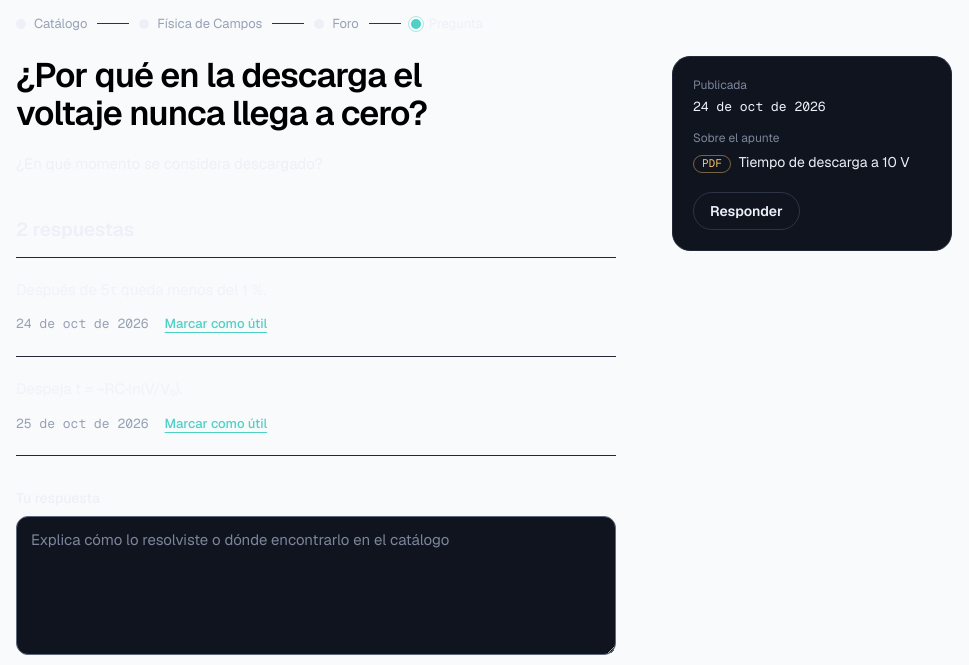
Scenario: QuestionPage › quien preguntó marca una respuesta como útil, la cambia y la quita, con el foco en cada paso
Expected: the heading "¿Por qué en la descarga el voltaje nunca llega a cero?" is shown, x1=16 y1=52 x2=427 y2=135
Click the button "Marcar como útil" below "Después de 5τ queda menos del 1 %.": (216,324) x1=165 y1=312 x2=267 y2=336
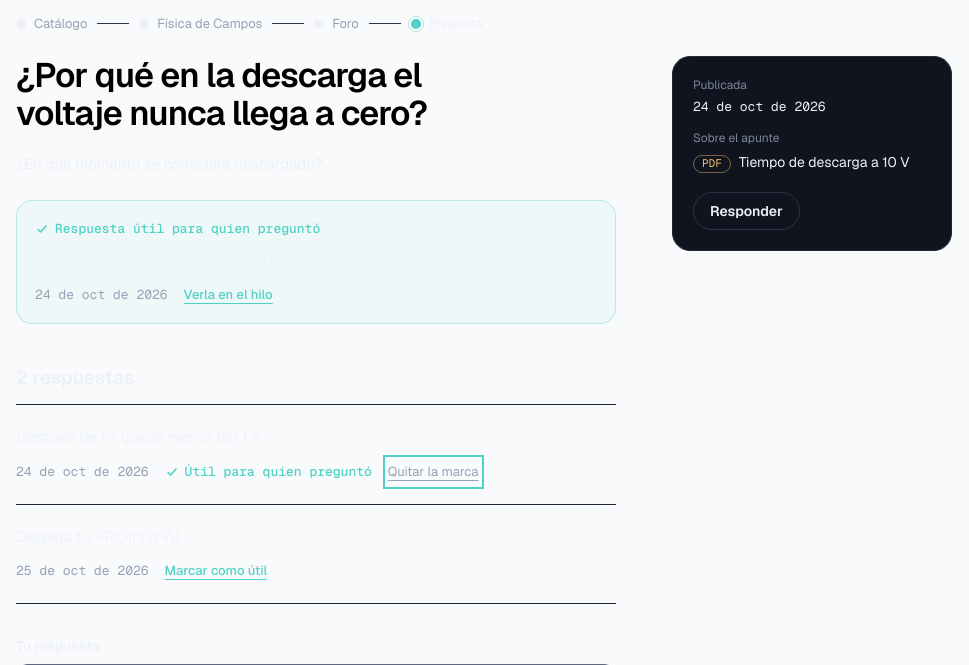
Expected: the text "Útil para quien preguntó" is shown, x1=165 y1=462 x2=372 y2=482
Note: Solo hay una: marcar otra quita la marca de la anterior. El hilo no cambia de orden.
Click the button "Marcar como útil": (216,571) x1=165 y1=559 x2=267 y2=583
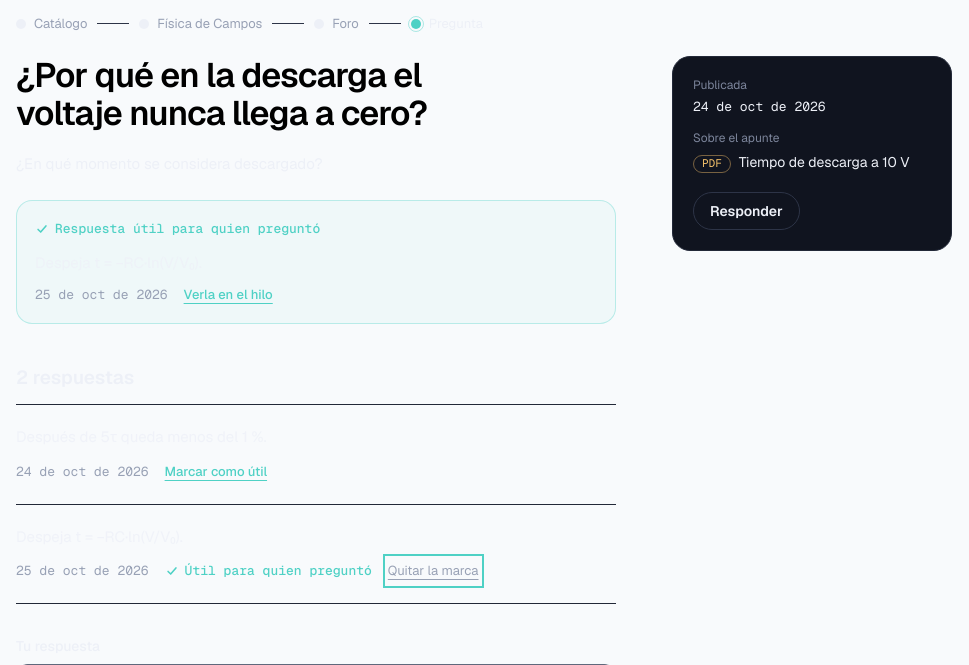
Click the button "Quitar la marca": (433,571) x1=388 y1=559 x2=478 y2=583
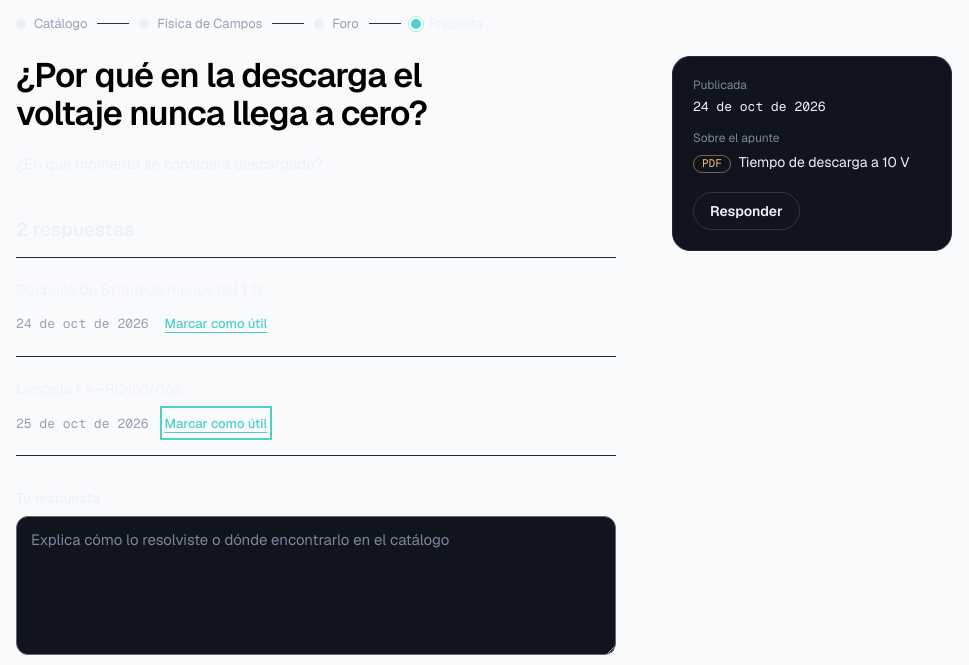
Expected: the element "Respuesta útil para quien preguntó" is gone
